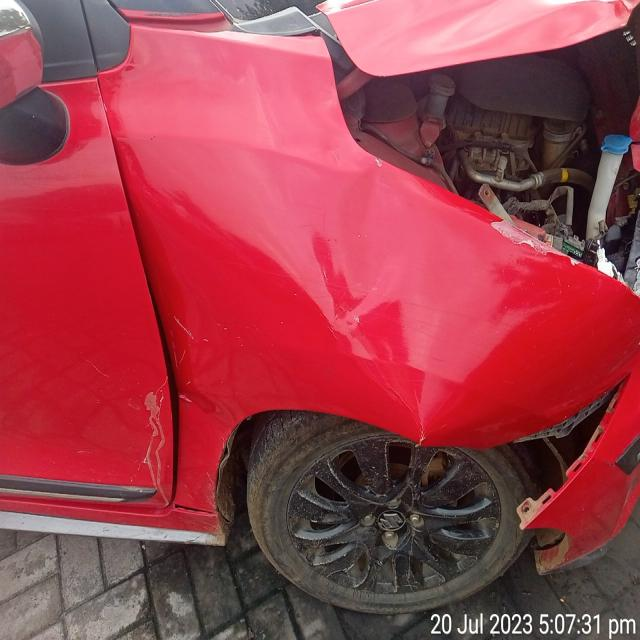damage: (300, 223, 497, 438), (314, 0, 640, 73), (505, 372, 640, 523), (129, 306, 208, 507)
